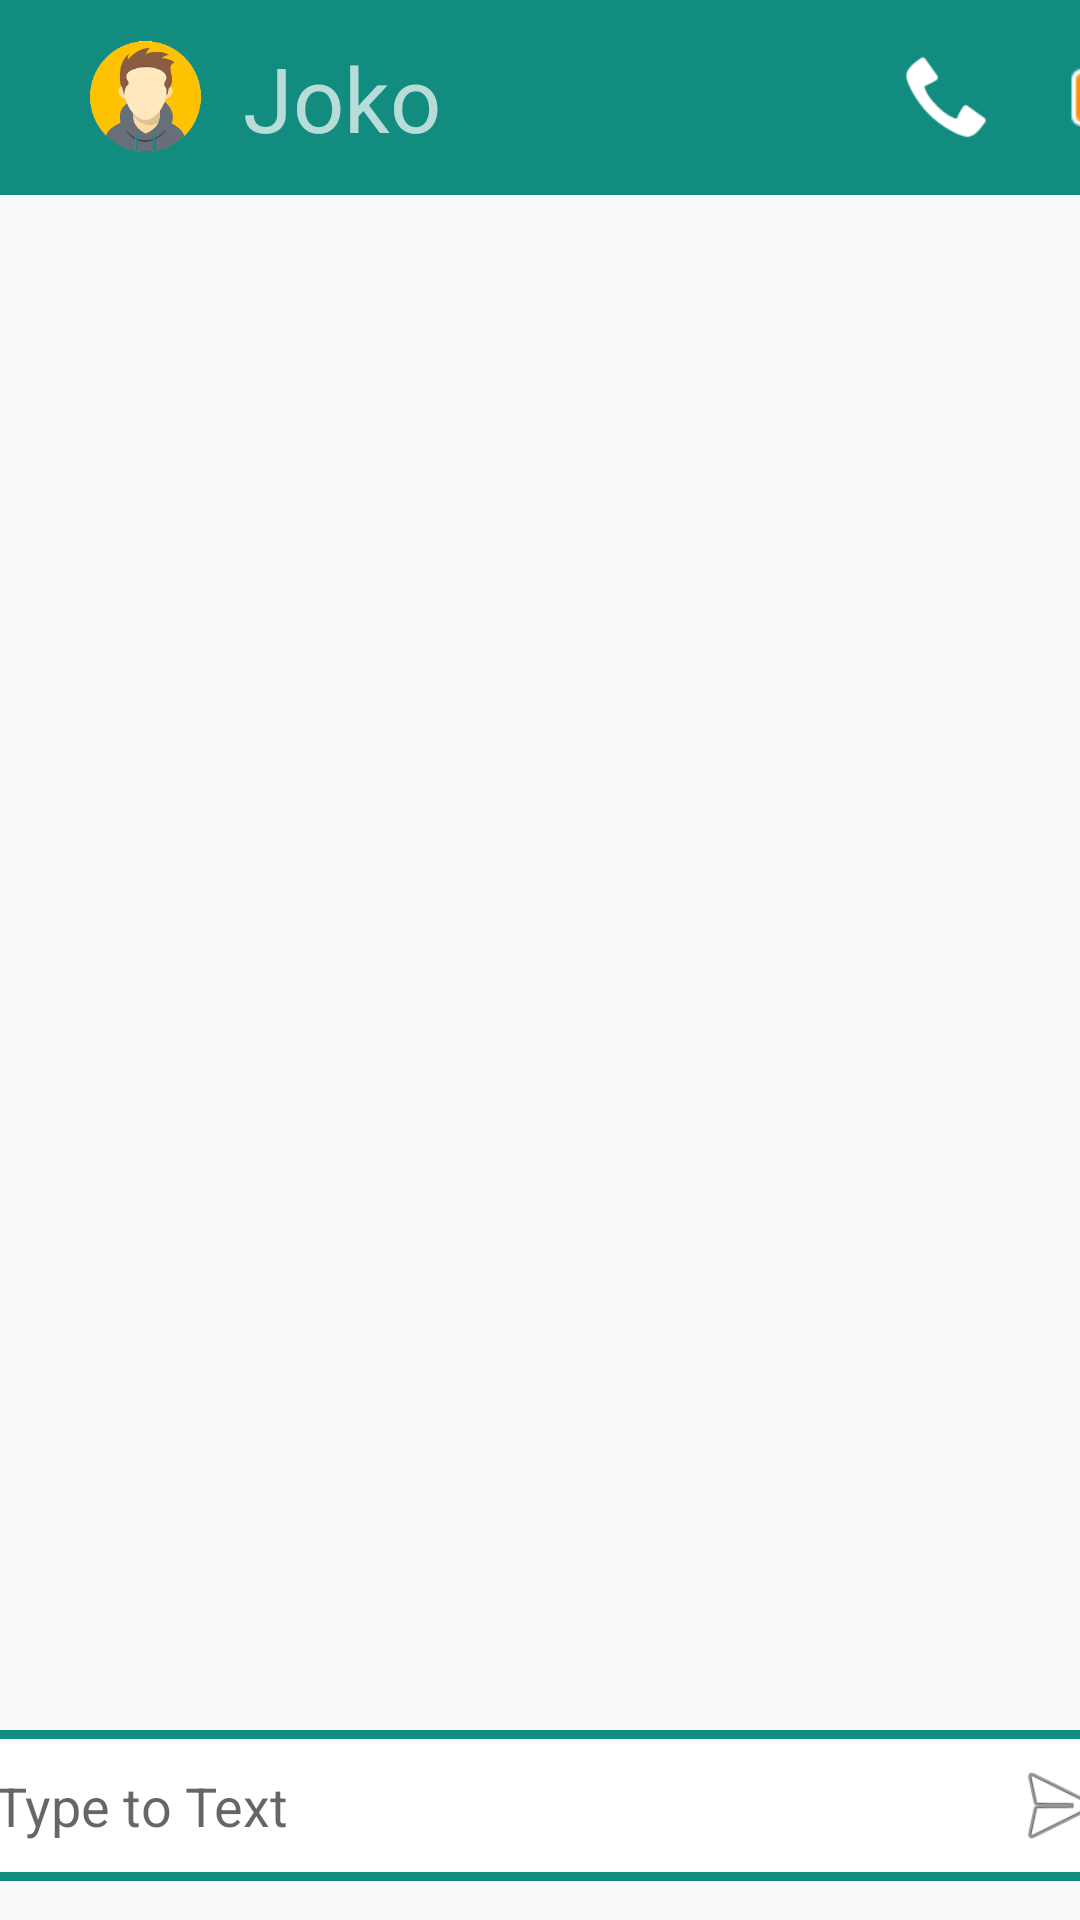

Icon click points for this 1080 × 1920 phone screenshot, format [x,y]:
phone call: [946,97]
